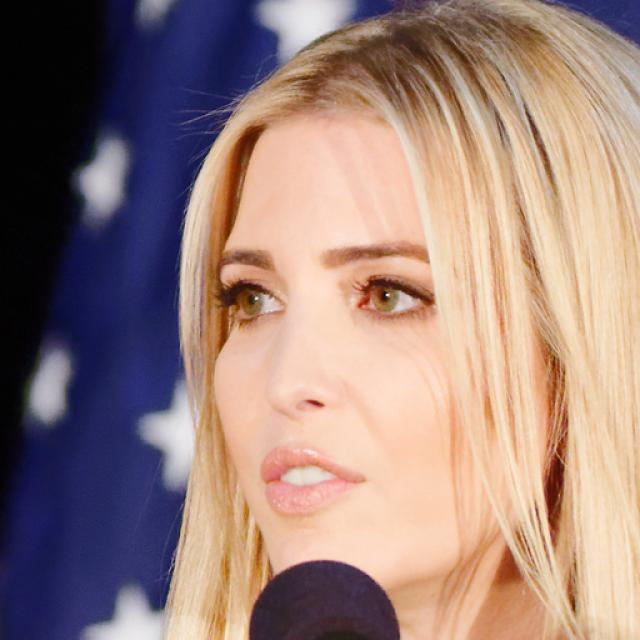disgust: (208, 102, 560, 607)
